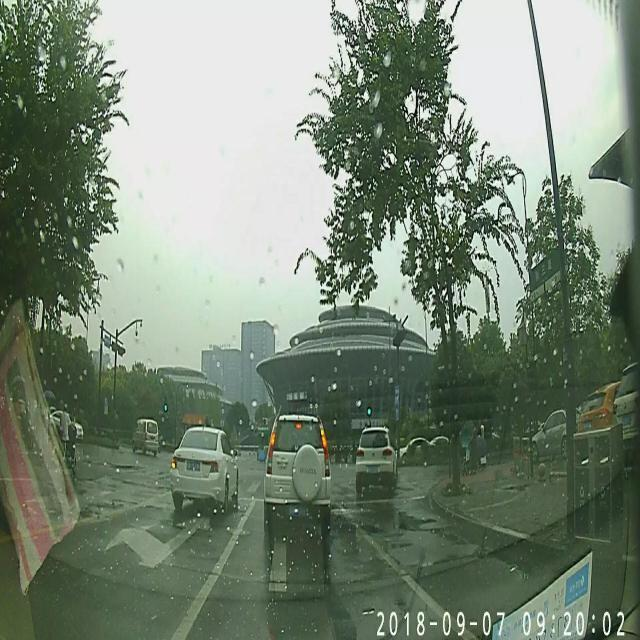car: (268, 413, 330, 524), (174, 422, 239, 509), (355, 423, 398, 493), (130, 417, 158, 452)
